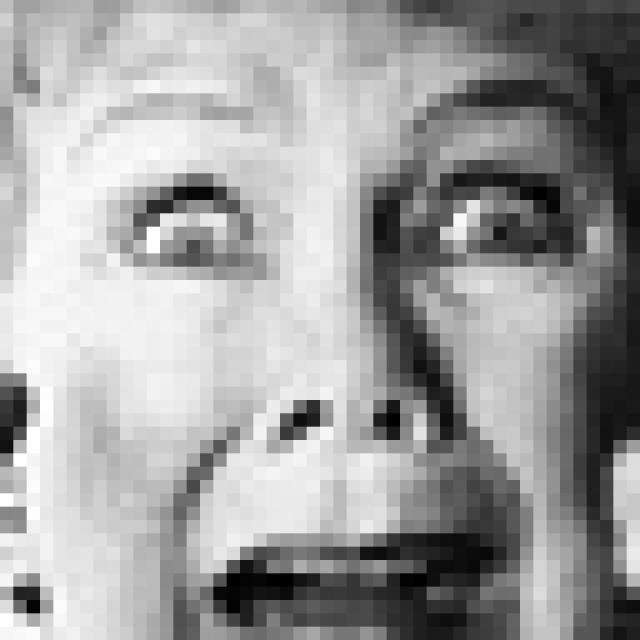fear: (73, 63, 613, 640)
